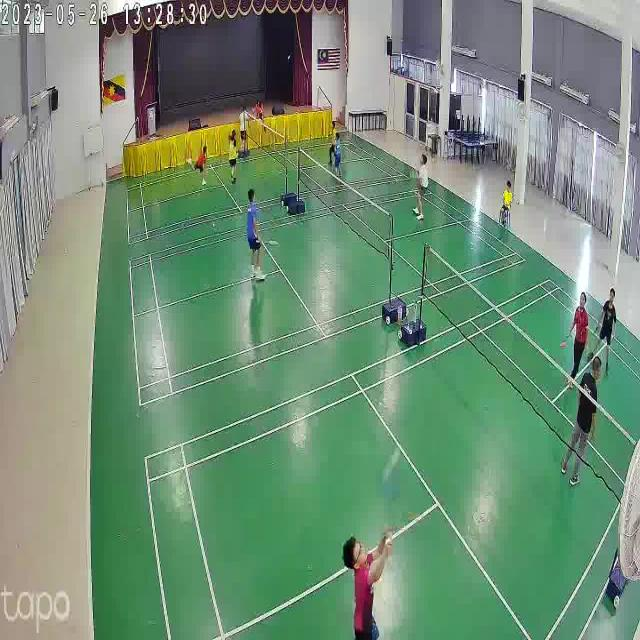Head: (343, 536, 367, 568), (590, 354, 600, 376), (578, 290, 586, 308), (248, 188, 256, 205), (608, 286, 616, 303), (419, 150, 426, 164), (202, 140, 208, 156), (331, 120, 337, 131), (505, 181, 511, 192), (242, 103, 246, 113), (232, 128, 236, 137), (257, 98, 261, 106), (335, 132, 340, 138)
